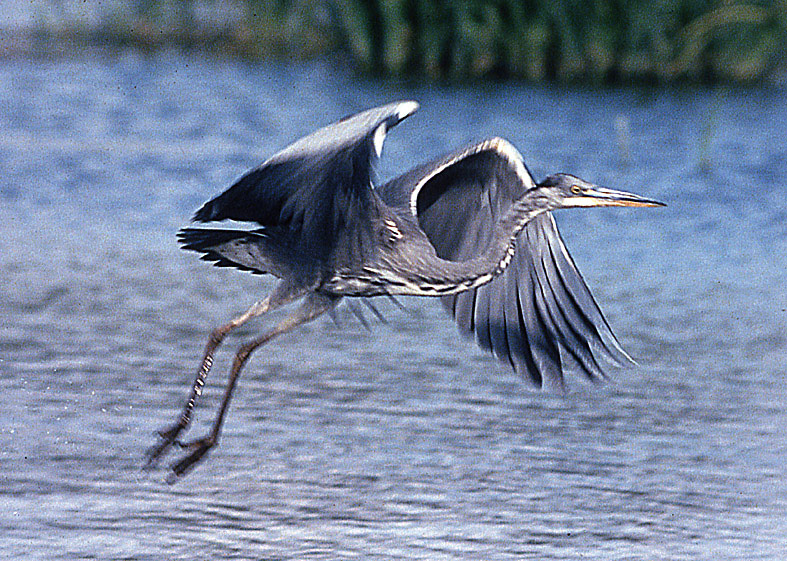heron: (136, 96, 670, 493)
